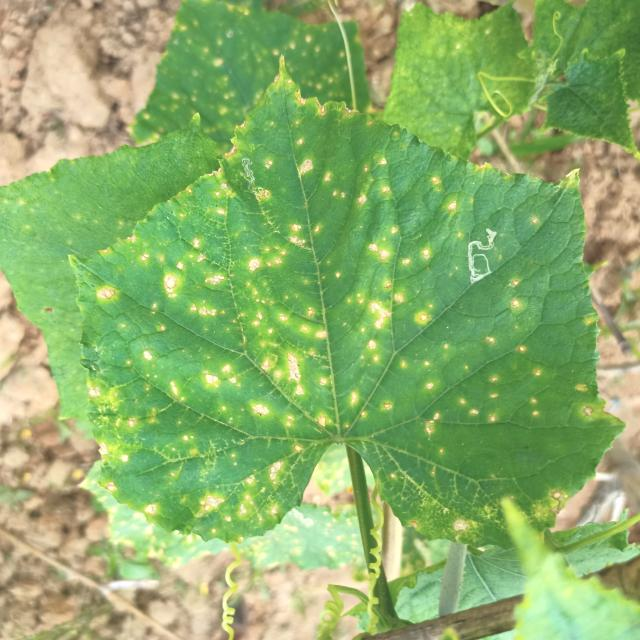disease_cucumber: (98, 109, 563, 533)
